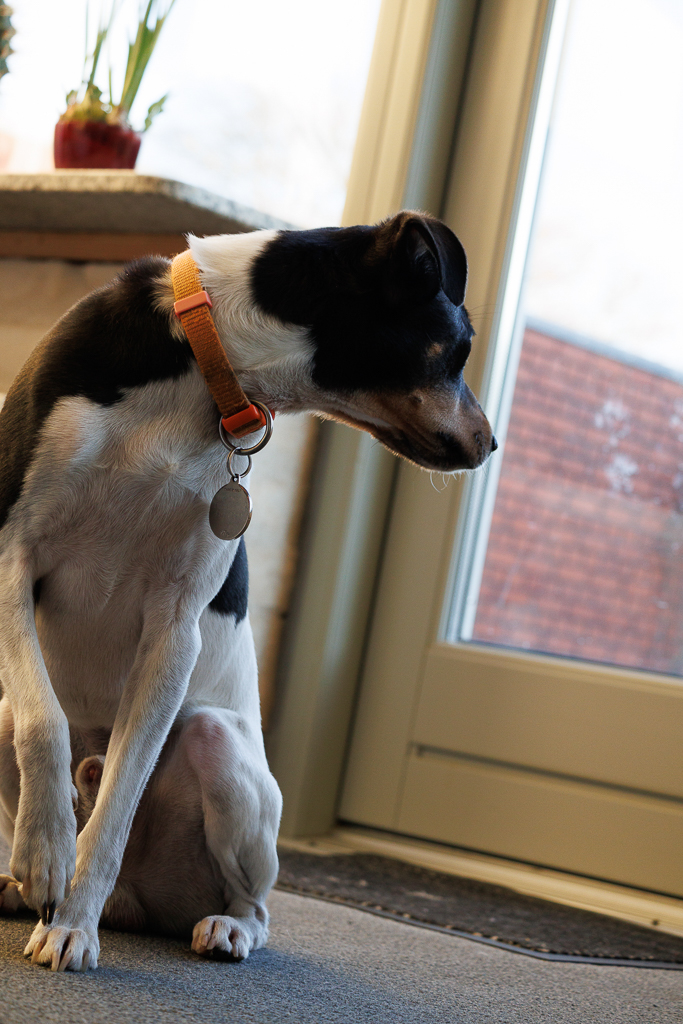Dog: (0, 199, 512, 995)
